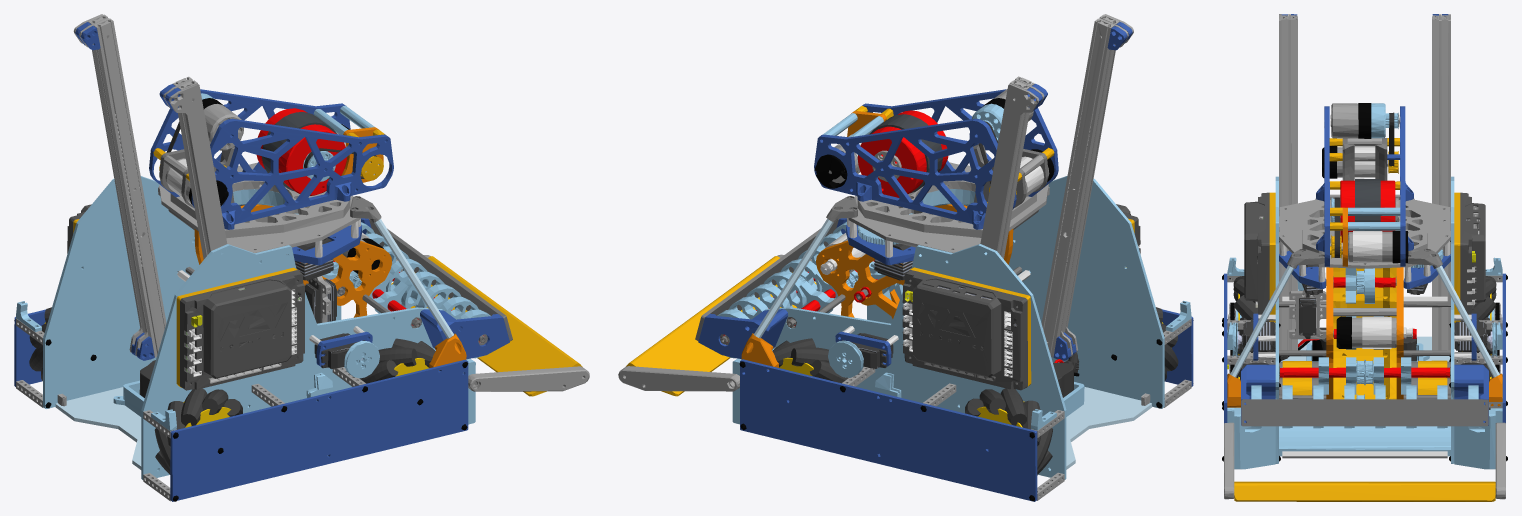
The model's file is wxyz-ri3d.glb.
The picture shows the model from 3 angles, left to right: view 1: azimuth 30°, elevation 25°; view 2: azimuth 150°, elevation 25°; view 3: azimuth 270°, elevation 25°; orthographic projection. The views are drawn at different scales.
Parts seen in each view (by area): view 1: body, turret, arm, flywheel, intake_front, wheel_br, wheel_fr, intake_2, flywheel_top; view 2: body, turret, arm, flywheel, intake_front, wheel_bl, wheel_fl, intake_2, flywheel_top; view 3: body, turret, arm, intake_2, flywheel_top, flywheel, intake_front, intake_4, wheel_br, wheel_bl.
Boxes of the visible parts, <box> form: body: <box>14,14,512,501</box>; turret: <box>149,89,393,238</box>; arm: <box>391,255,589,396</box>; flywheel: <box>256,108,346,195</box>; intake_front: <box>361,222,490,358</box>; wheel_br: <box>154,388,242,474</box>; wheel_fr: <box>359,338,435,405</box>; intake_2: <box>333,261,421,328</box>; flywheel_top: <box>201,93,243,150</box>; body: <box>695,14,1193,501</box>; turret: <box>814,89,1058,237</box>; arm: <box>618,254,816,396</box>; flywheel: <box>857,110,948,197</box>; intake_front: <box>717,221,846,358</box>; wheel_bl: <box>965,388,1052,475</box>; wheel_fl: <box>772,338,848,383</box>; intake_2: <box>786,260,874,328</box>; flywheel_top: <box>972,89,1033,141</box>; body: <box>1222,14,1507,469</box>; turret: <box>1302,106,1427,266</box>; arm: <box>1224,422,1505,501</box>; intake_2: <box>1279,357,1450,394</box>; flywheel_top: <box>1330,103,1400,138</box>; flywheel: <box>1330,179,1398,242</box>; intake_front: <box>1251,385,1490,428</box>; intake_4: <box>1326,268,1396,303</box>; wheel_br: <box>1222,276,1264,355</box>; wheel_bl: <box>1458,276,1502,355</box>.
Bounding box in the file's own units: 0.5063 × 0.4438 × 0.3324.
